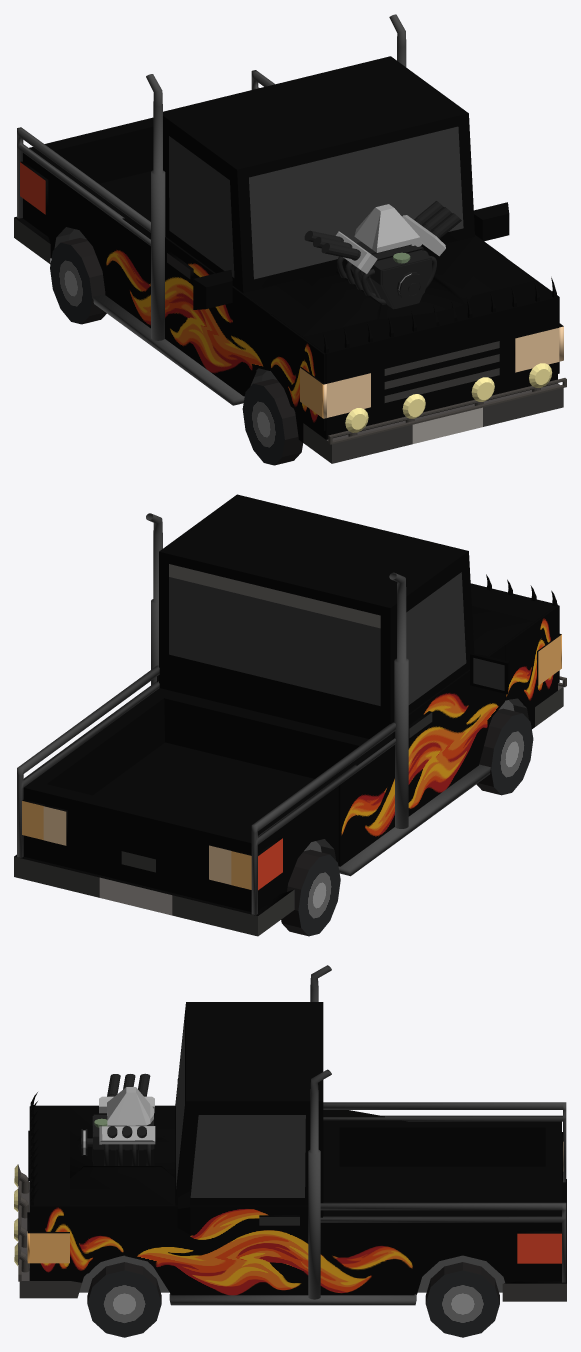
The model's file is carro bonus.fbx.
The picture shows the model from 3 angles, top to bottom: view 1: azimuth 30°, elevation 25°; view 2: azimuth 150°, elevation 25°; view 3: azimuth 270°, elevation 25°; orthographic projection. The views are drawn at different scales.
Visible parts, largest first — view 1: carro AZUL, LOGO.004, Cube, NurbsPath.011_Mesh.001, Wheel_fr, Cube.001, Wheel_rr, LOGO.003, Cube.003; view 2: carro AZUL, Cube, LOGO.004, Wheel_rr, Wheel_fr, LOGO.003; view 3: carro AZUL, LOGO.001, Cube, NurbsPath.011_Mesh.001, LOGO.002, Wheel_rl, Wheel_fl, Cube.001, LOGO.004, Cube.003.
Boxes of the visible parts, x1,y1,x2,y2 form: carro AZUL: (14, 56, 563, 463); LOGO.004: (105, 213, 271, 396); Cube: (17, 14, 406, 405); NurbsPath.011_Mesh.001: (304, 201, 461, 309); Wheel_fr: (242, 379, 303, 465); Cube.001: (328, 363, 566, 444); Wheel_rr: (50, 238, 106, 324); LOGO.003: (270, 314, 325, 430); Cube.003: (323, 277, 557, 353); carro AZUL: (14, 494, 563, 936); Cube: (17, 513, 490, 915); LOGO.004: (338, 644, 505, 866); Wheel_rr: (281, 849, 340, 936); Wheel_fr: (476, 708, 533, 795); LOGO.003: (504, 605, 559, 705); carro AZUL: (19, 1002, 566, 1301); LOGO.001: (125, 1205, 414, 1295); Cube: (169, 965, 566, 1305); NurbsPath.011_Mesh.001: (81, 1073, 155, 1165); LOGO.002: (30, 1205, 124, 1273); Wheel_rl: (425, 1262, 499, 1337); Wheel_fl: (87, 1262, 161, 1337); Cube.001: (14, 1164, 29, 1281); LOGO.004: (155, 1105, 409, 1121); Cube.003: (30, 1092, 37, 1205).
Size of the model in its own units: 381 by 351 by 660.
